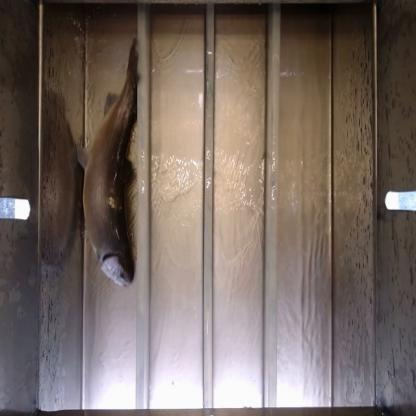pezw: (83, 43, 139, 290)
